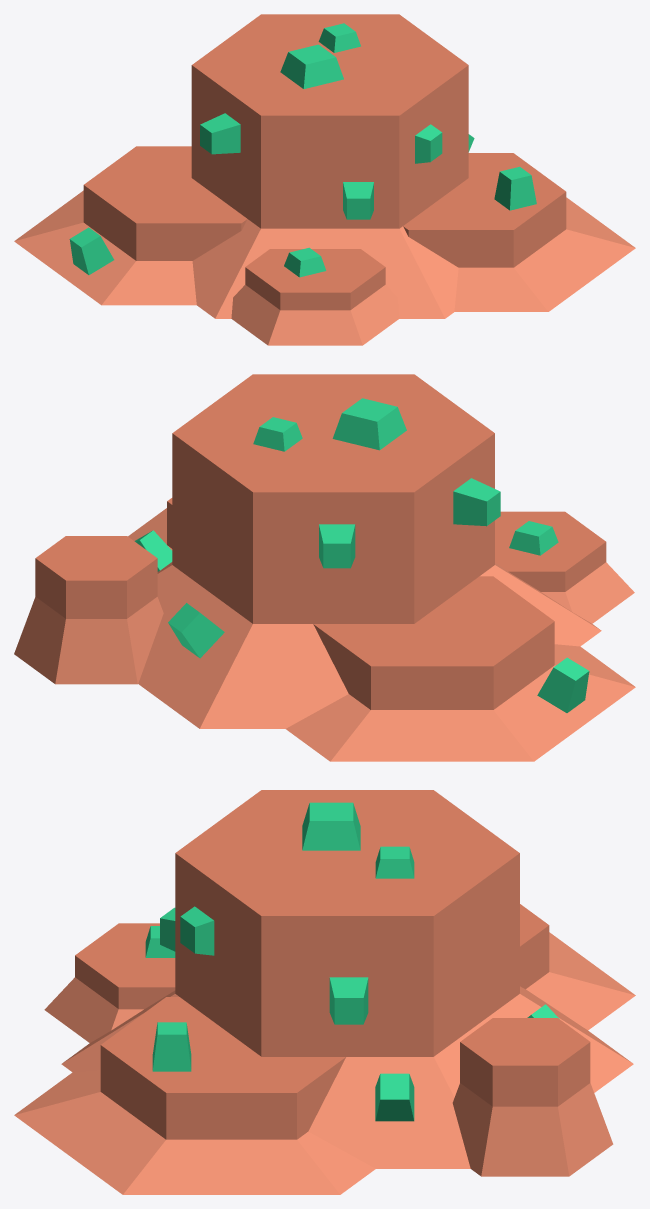
File: rock_crystals.dae
The picture shows the model from 3 angles, top to bottom: view 1: azimuth 30°, elevation 25°; view 2: azimuth 150°, elevation 25°; view 3: azimuth 270°, elevation 25°; orthographic projection. The views are drawn at different scales.
Parts seen in each view (by area): view 1: rock_crystals; view 2: rock_crystals; view 3: rock_crystals.
Boxes of the visible parts, x1,y1,x2,y2 form: rock_crystals: (14, 14, 635, 345); rock_crystals: (14, 374, 635, 761); rock_crystals: (14, 790, 635, 1194).
Size of the model in its own units: 0.8509 by 0.3375 by 0.8015.
